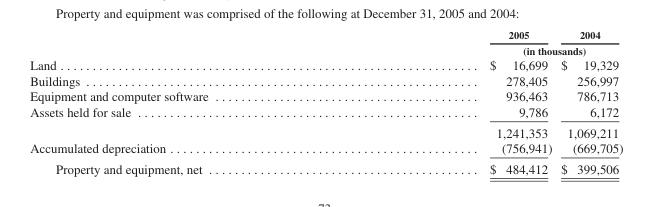table: (29, 28, 622, 175)
table column: (29, 28, 348, 175), (348, 28, 555, 175), (555, 28, 622, 175)
table column header: (29, 28, 622, 56)
table row: (29, 139, 622, 158), (29, 103, 622, 121), (29, 121, 622, 139), (29, 158, 622, 175), (29, 56, 622, 72), (29, 72, 622, 88), (29, 88, 622, 103), (29, 28, 622, 42), (29, 42, 622, 56)
table spanning cell: (348, 42, 622, 56)
